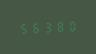eight: (54, 19, 65, 33)
five: (18, 21, 29, 34)
six: (30, 20, 41, 34)
three: (42, 20, 53, 33)
zero: (66, 19, 77, 32)
